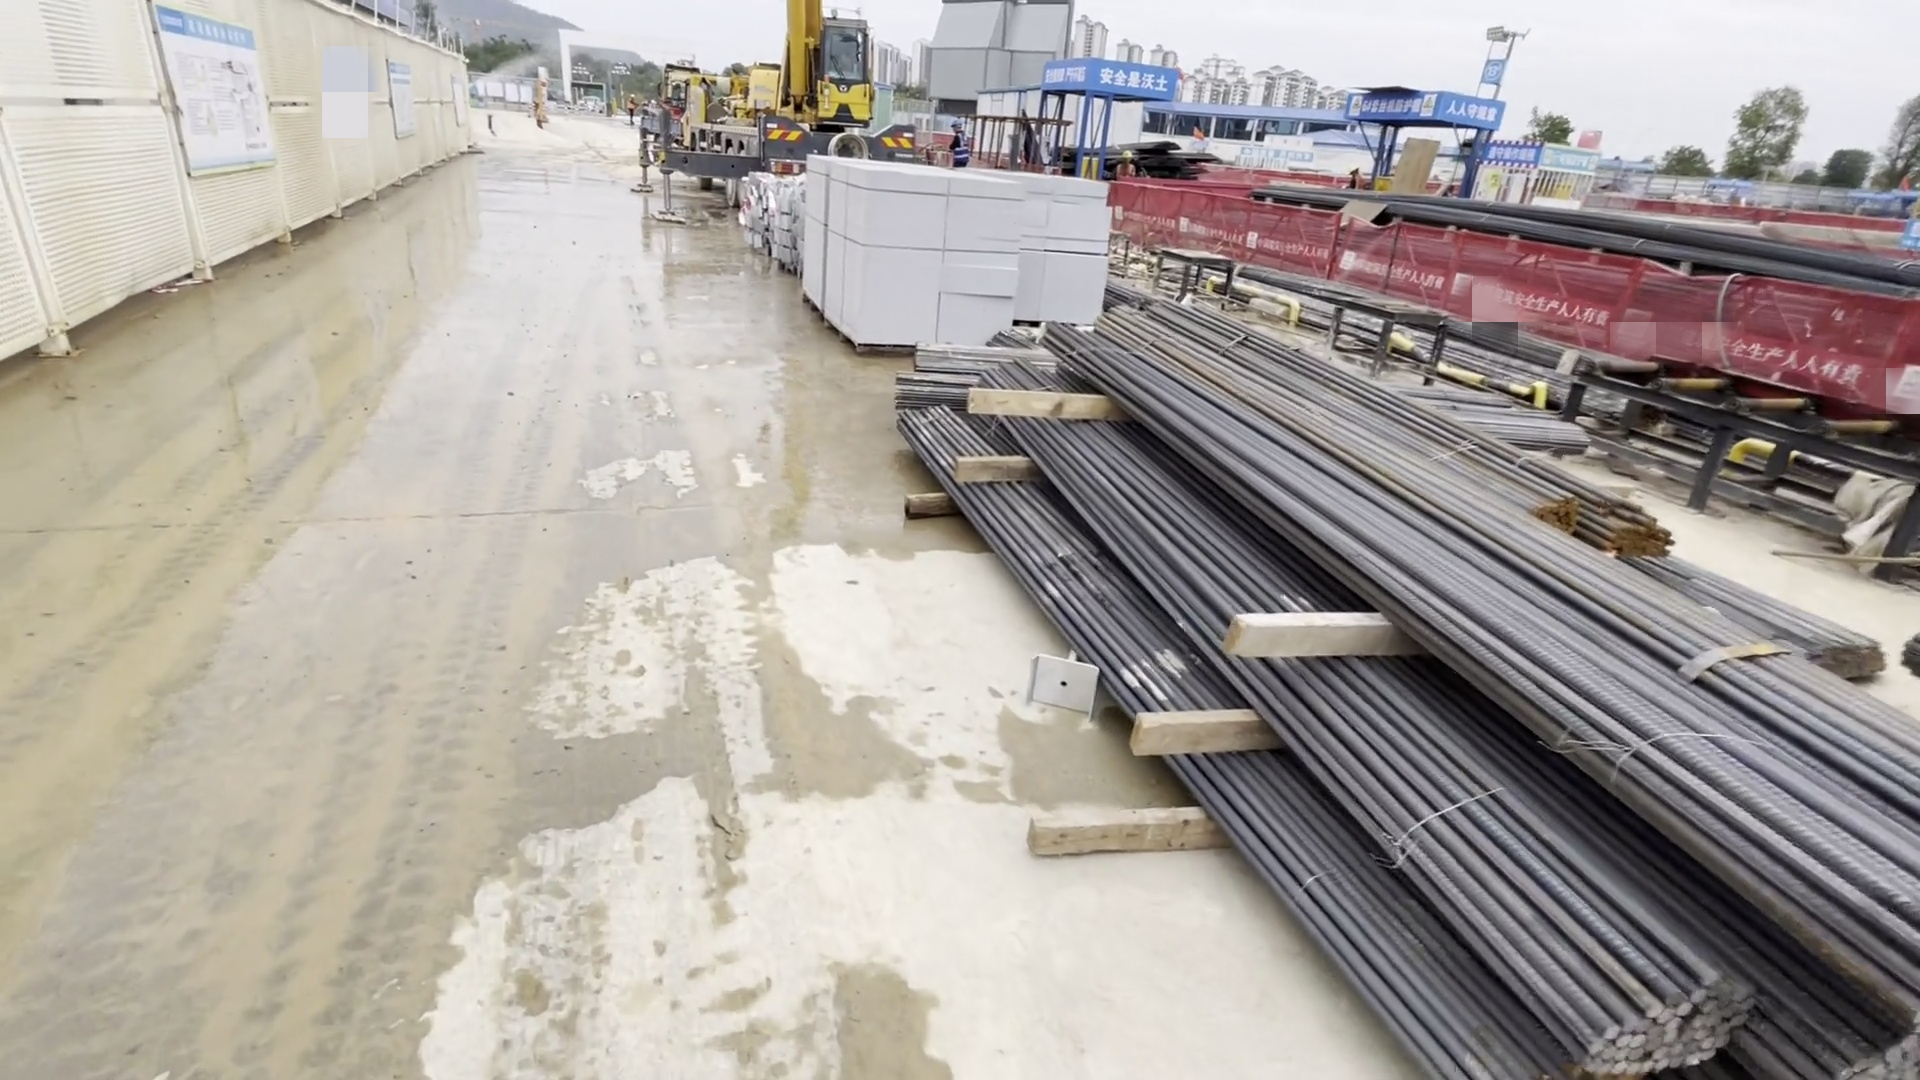brick: (802, 152, 1110, 355)
fence: (1116, 177, 1920, 406)
rebar: (930, 287, 1920, 1056)
slogan: (1341, 80, 1506, 133), (1038, 59, 1184, 105)
